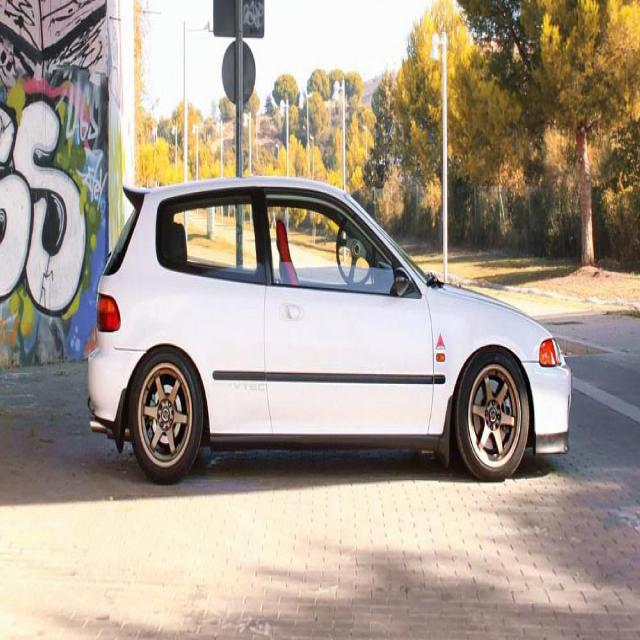back_glass: (105, 198, 145, 276)
back_right_light: (97, 290, 120, 331)
front_right_door: (258, 188, 434, 434)
front_right_light: (538, 337, 560, 366)
wheel: (129, 345, 529, 487)
